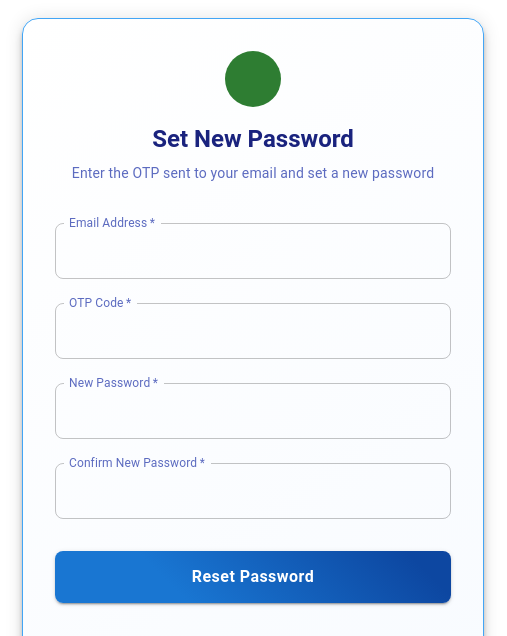
Test: Reset Password Page › should show validation errors on empty submit
The image size is (507, 636).
Click the button "Reset Password": point(253, 577) [55,551,451,603]
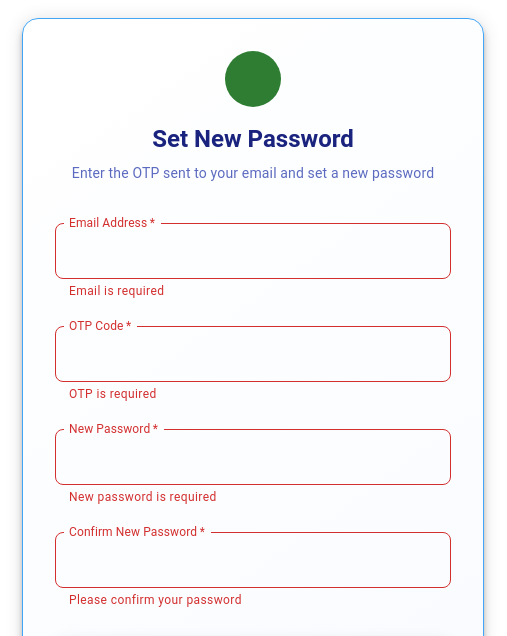
Now the text "Email is required" is shown, box [69,284,164,298]
Now the text "OTP is required" is shown, box [69,387,157,401]
Now the text "New password is required" is shown, box [69,490,217,504]
